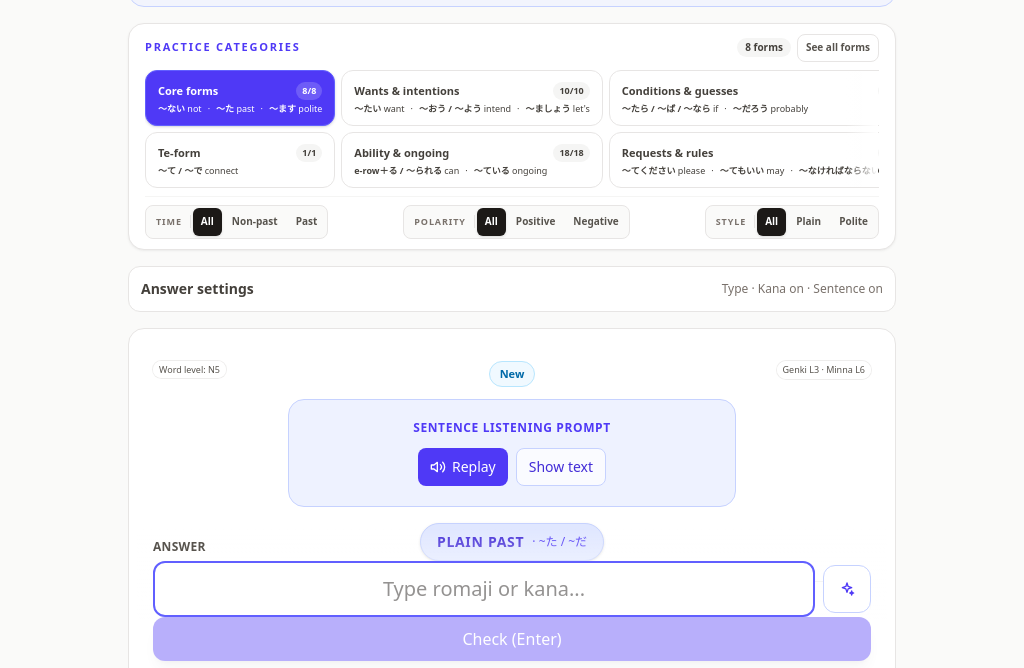
Test: StudyView continuous Practice startup › hides and replays reviewed listening context on an exact-word/form retry
The width and height of the screenshot is (1024, 668).
Expected: the text "Sentence listening prompt" is shown, x1=413 y1=419 x2=611 y2=436
Click the button "Show text".
click(561, 467)  # box x1=516 y1=448 x2=606 y2=486
(page scrolled)
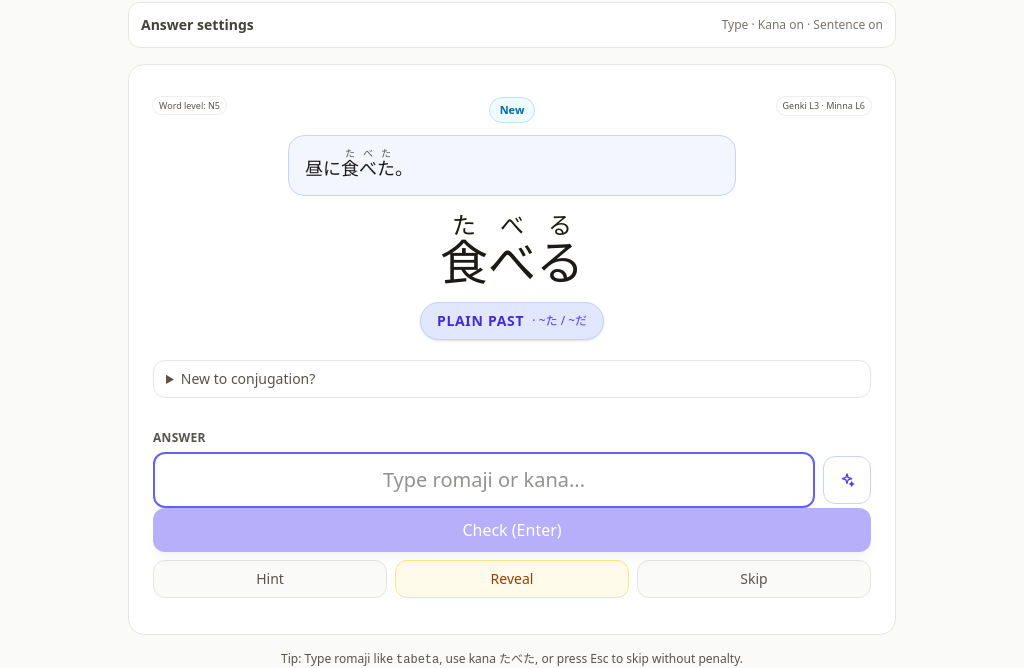
Now the element showing "昼に 食べた 。" is shown, box x1=288 y1=135 x2=736 y2=196
Click the button "Reveal".
click(512, 579)  # box x1=395 y1=560 x2=629 y2=598
(page scrolled)
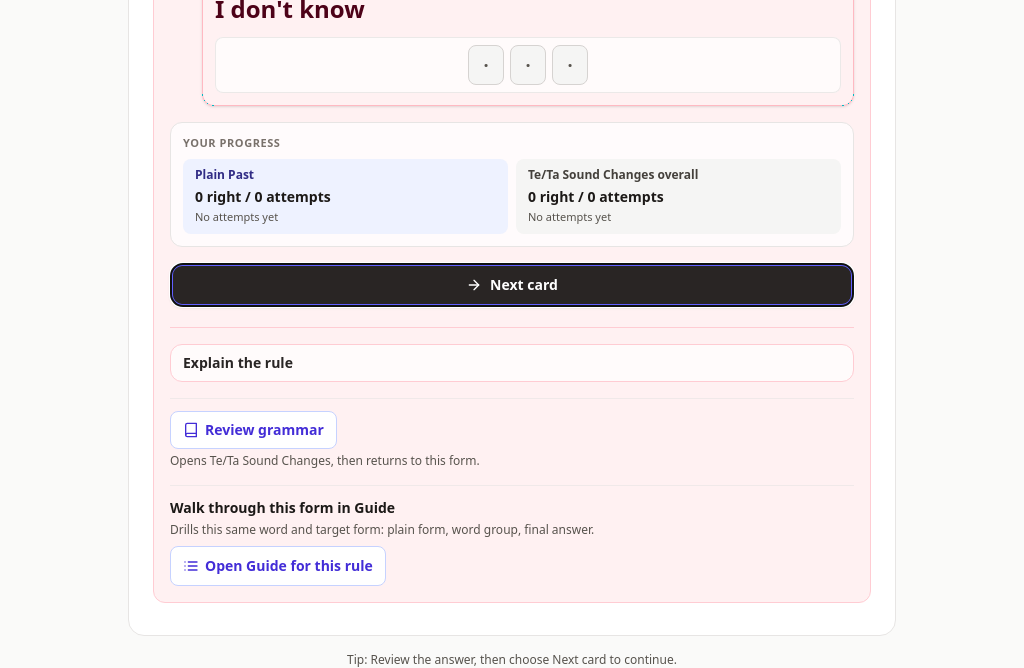
Click the button "Next card".
click(512, 285)  # box x1=170 y1=263 x2=854 y2=307
(page scrolled)
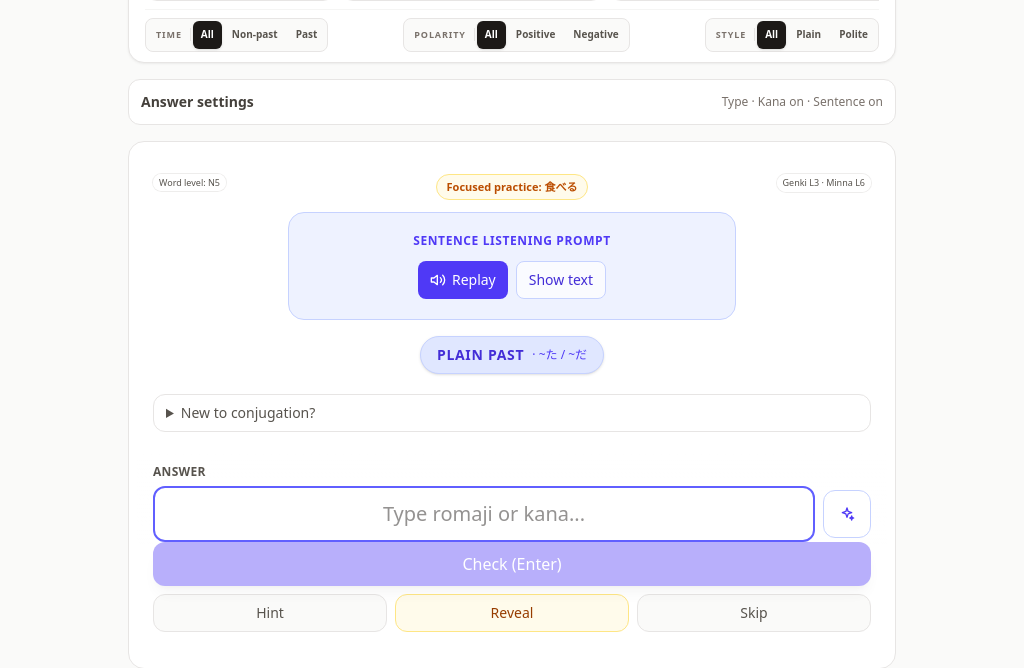
Now the text "Sentence listening prompt" is shown, box x1=413 y1=232 x2=611 y2=249
